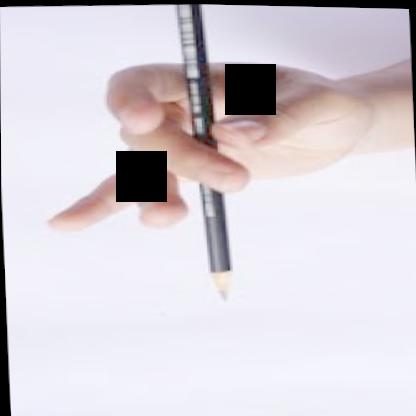pencil: (162, 4, 236, 307)
